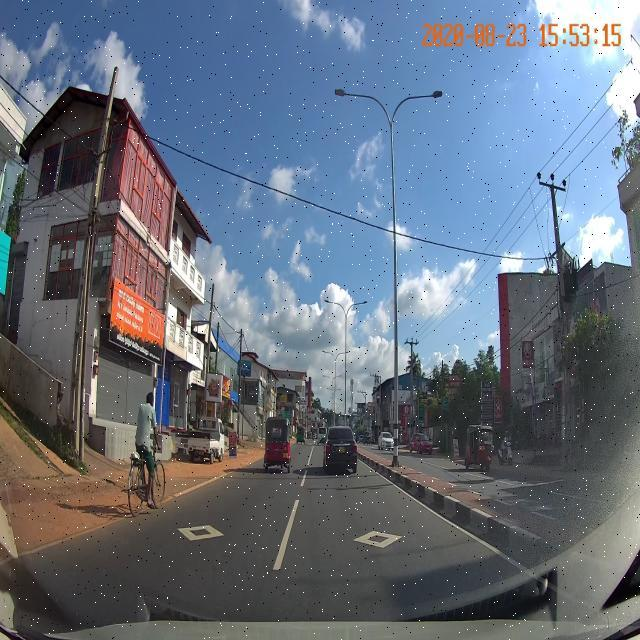diamond: (276, 511, 512, 559)
